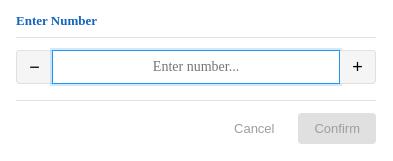
NumberInputWidget advanced interactions › should decrement value
Type "10" into the field with placeholder "Enter number..." at (196, 67), box x1=52 y1=50 x2=340 y2=84
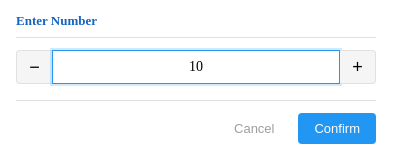
Click the button named "Decrease" at (34, 67), box x1=16 y1=50 x2=52 y2=84
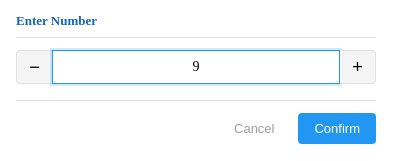
Check: the field with placeholder "Enter number..." holds "9", box x1=52 y1=50 x2=340 y2=84
